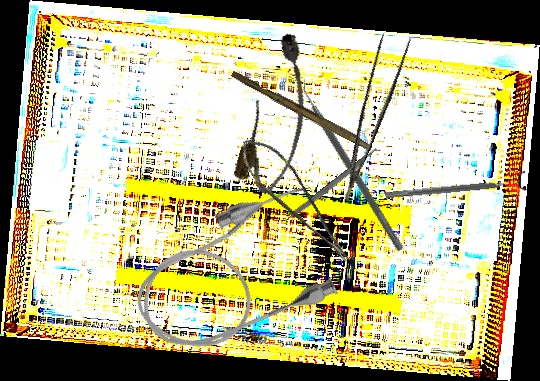Cannula: (115, 174, 352, 374), (230, 28, 327, 199)
Fixation Ring: (384, 169, 527, 207)
Micro Scissor: (232, 126, 354, 279)
Scalpel Handle: (229, 69, 375, 152), (286, 147, 380, 222)
Spatula Surgical: (292, 75, 412, 253)
Tissue Forceps: (317, 24, 418, 202)
